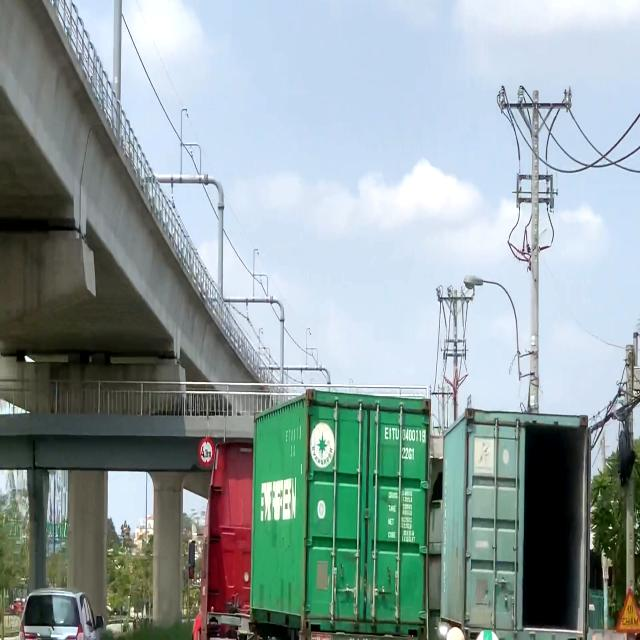P.117: (198, 437, 215, 467)
